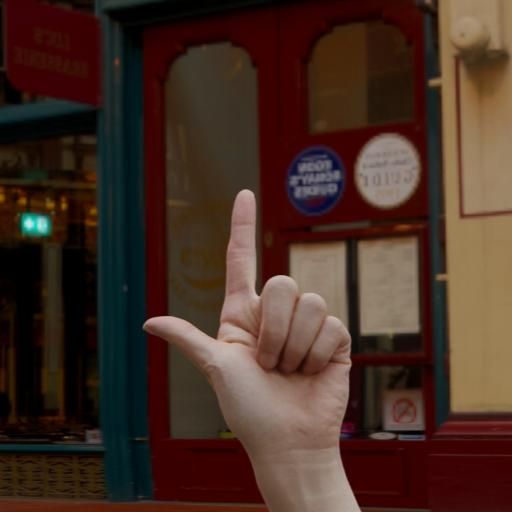L: (138, 180, 366, 441)
